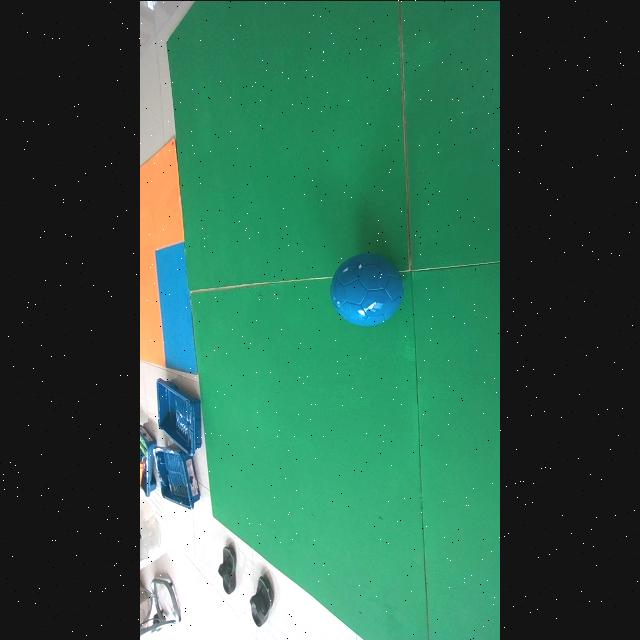B: (330, 252, 404, 326)
